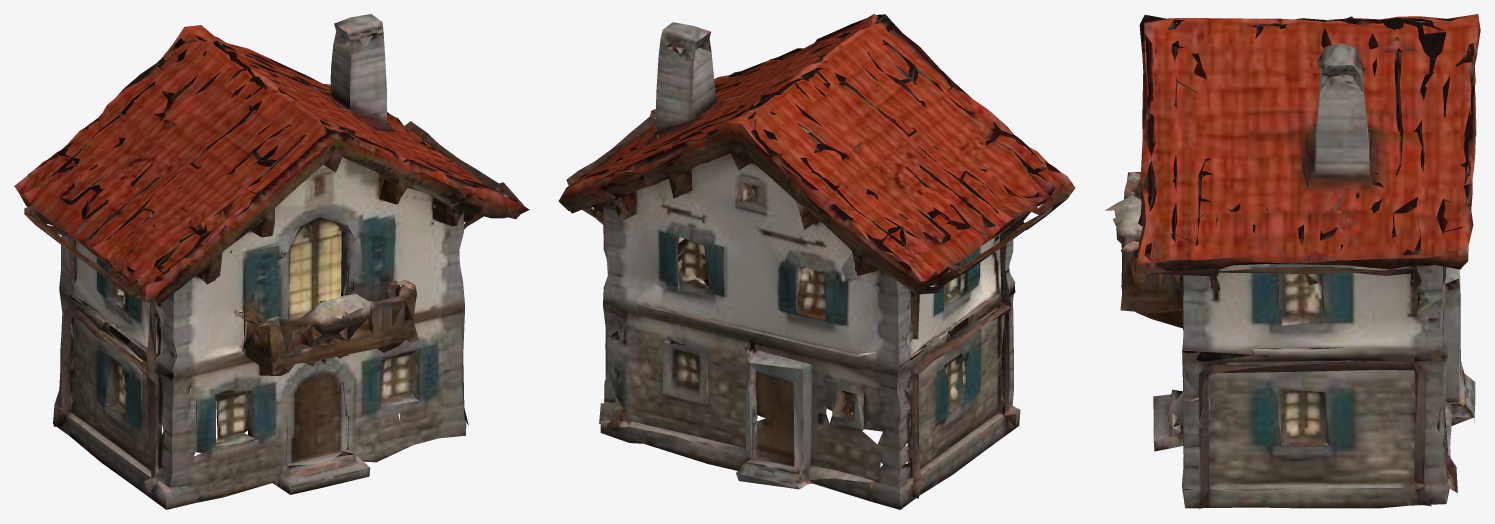
Rendered from tower_2.glb.
3 views of the same model, side by side, from view 1: azimuth 30°, elevation 25°; view 2: azimuth 150°, elevation 25°; view 3: azimuth 270°, elevation 25° (orthographic). The views are drawn at different scales.
Parts seen in each view (by area): view 1: alpine__tower_2__neural_lod; view 2: alpine__tower_2__neural_lod; view 3: alpine__tower_2__neural_lod.
Part boxes in pixels (left/top/right/bottom): alpine__tower_2__neural_lod: left=14, top=14, right=529, bottom=509; alpine__tower_2__neural_lod: left=558, top=14, right=1075, bottom=509; alpine__tower_2__neural_lod: left=1105, top=14, right=1480, bottom=509.
Size of the model in its own units: 0.969 by 0.8991 by 0.6902.
Materials: 1 (1 with a texture image).
